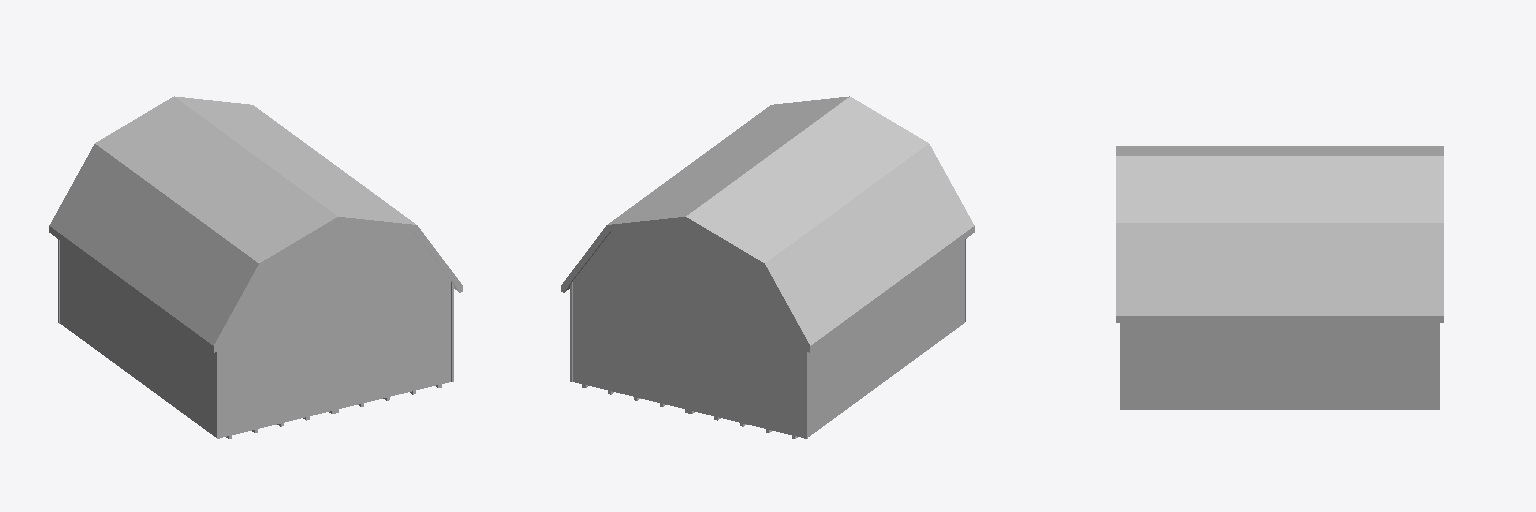
File: Two Story Double Wide Garage_24x28.obj
3 views of the same model, side by side, from view 1: azimuth 30°, elevation 25°; view 2: azimuth 150°, elevation 25°; view 3: azimuth 270°, elevation 25° (orthographic).
Parts seen in each view (by area): view 1: Two Story Double Wide Garage_24x28.obj; view 2: Two Story Double Wide Garage_24x28.obj; view 3: Two Story Double Wide Garage_24x28.obj.
Part boxes in pixels (left/top/right/bottom): Two Story Double Wide Garage_24x28.obj: left=49, top=96, right=462, bottom=438; Two Story Double Wide Garage_24x28.obj: left=561, top=96, right=974, bottom=438; Two Story Double Wide Garage_24x28.obj: left=1116, top=146, right=1443, bottom=409.
Bounding box in the file's own units: 7.74 × 5.91 × 8.84.